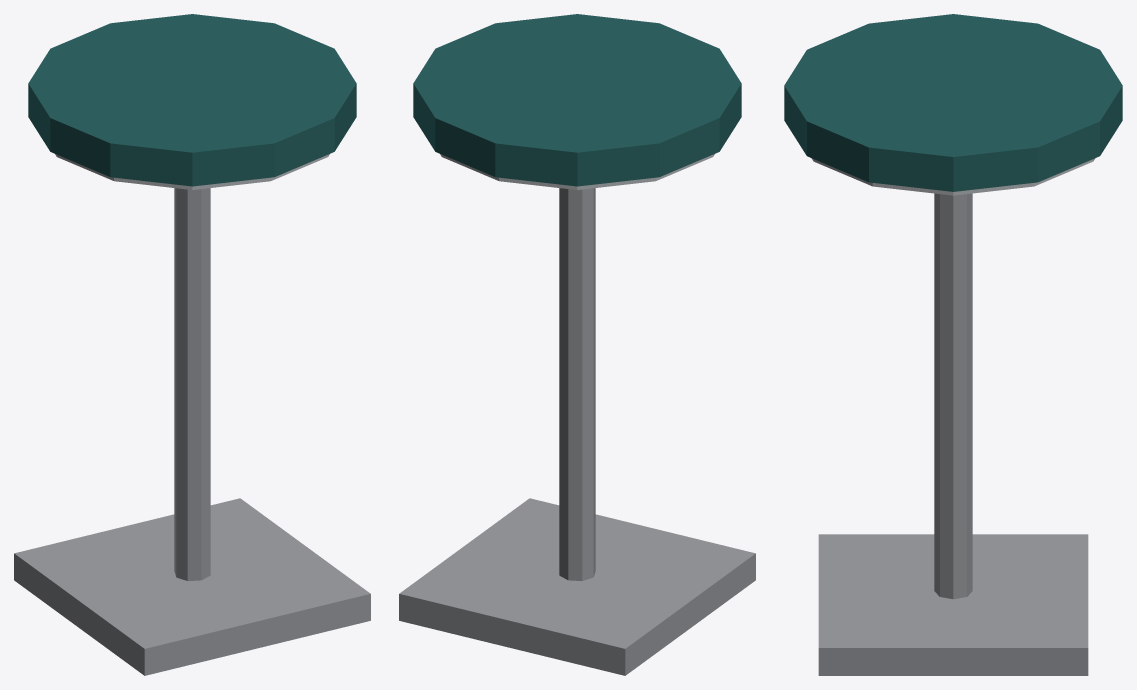
Rendered from PRP_Stool_NCL_v001.glb.
3 views of the same model, side by side, from view 1: azimuth 30°, elevation 25°; view 2: azimuth 150°, elevation 25°; view 3: azimuth 270°, elevation 25° (orthographic). The views are drawn at different scales.
Parts seen in each view (by area): view 1: PRP_Stool_NCL_v001; view 2: PRP_Stool_NCL_v001; view 3: PRP_Stool_NCL_v001.
Boxes of the visible parts, <box> form: PRP_Stool_NCL_v001: <box>14,14,370,675</box>; PRP_Stool_NCL_v001: <box>399,14,755,675</box>; PRP_Stool_NCL_v001: <box>784,14,1122,675</box>.
Size of the model in its own units: 0.44 by 0.765 by 0.44.
